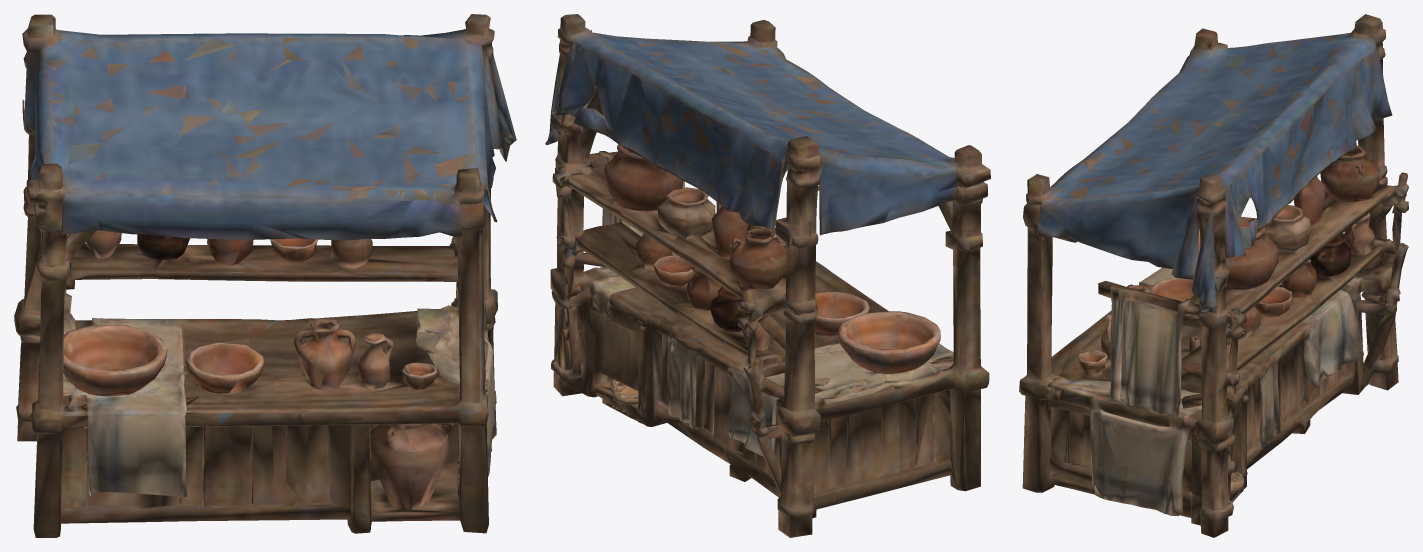
Rendered from pottery-market-stall-pixal3d.glb.
3 renders of one model, left to right at view 1: azimuth 30°, elevation 25°; view 2: azimuth 150°, elevation 25°; view 3: azimuth 270°, elevation 25°, orthographic. The views are drawn at different scales.
Visible parts, largest first — view 1: geometry_0; view 2: geometry_0; view 3: geometry_0.
Part boxes in pixels (<box>): geometry_0: <box>14,14,516,537</box>; geometry_0: <box>545,14,990,537</box>; geometry_0: <box>1019,14,1408,537</box>.
Bounding box in the file's own units: 3.32 × 2.8 × 2.69.
Materials: 1 (1 with a texture image).
